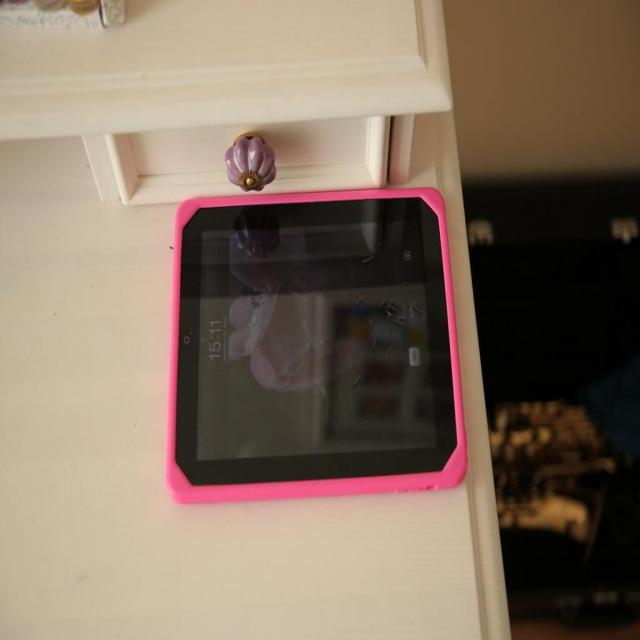Phone: (162, 181, 472, 503)
